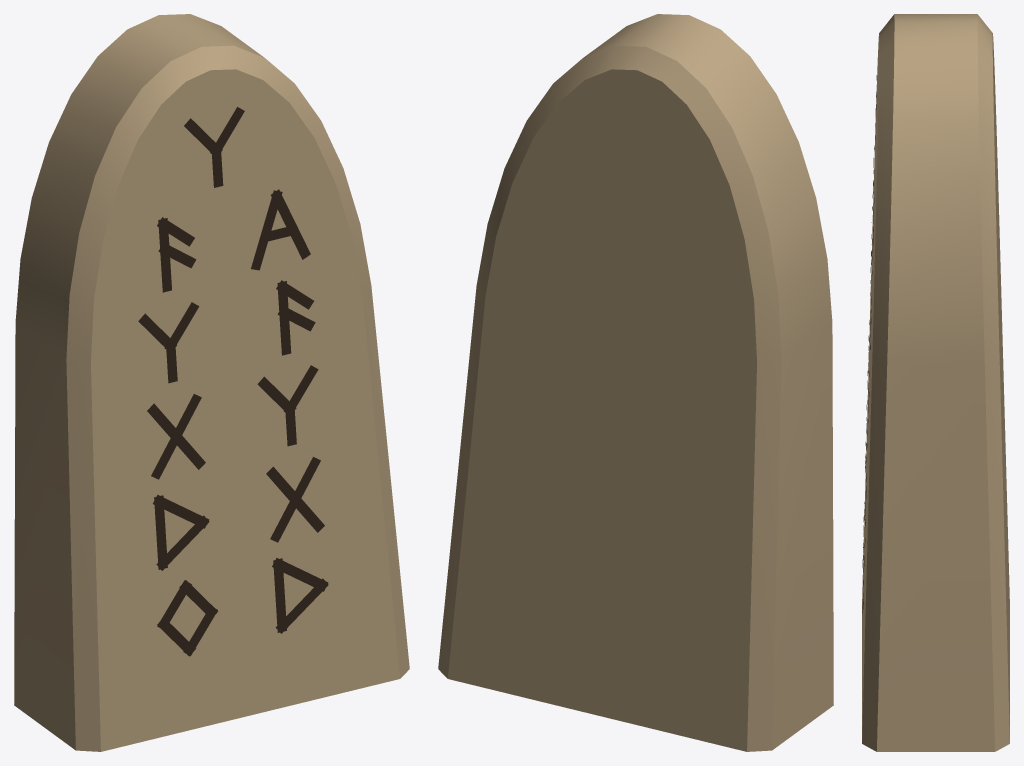
The model's file is runestone.glb.
3 views of the same model, side by side, from view 1: azimuth 30°, elevation 25°; view 2: azimuth 150°, elevation 25°; view 3: azimuth 270°, elevation 25° (orthographic). The views are drawn at different scales.
Parts seen in each view (by area): view 1: Runestone; view 2: Runestone; view 3: Runestone.
Boxes of the visible parts, x1,y1,x2,y2 form: Runestone: (14, 14, 409, 751); Runestone: (438, 14, 833, 751); Runestone: (862, 14, 1009, 751).
Size of the model in its own units: 1.01 by 1.9 by 0.4.
